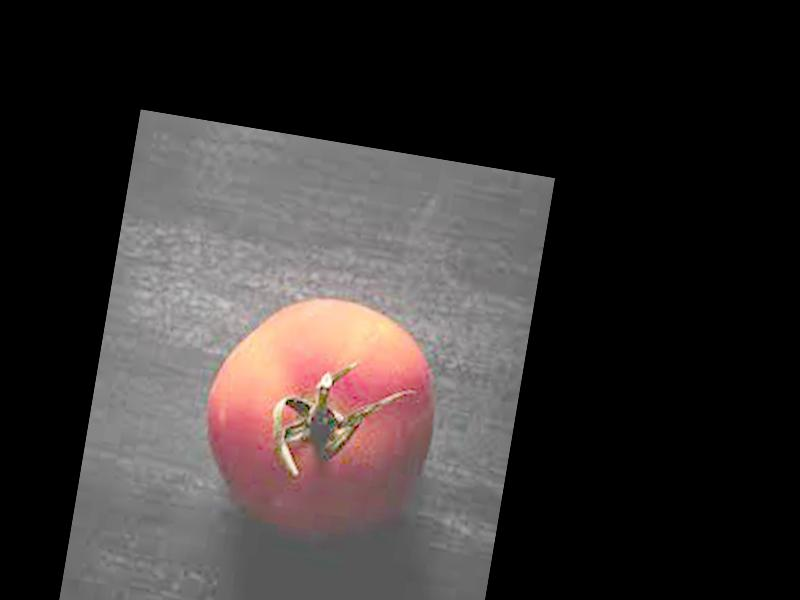Tomato: (190, 280, 448, 548)
